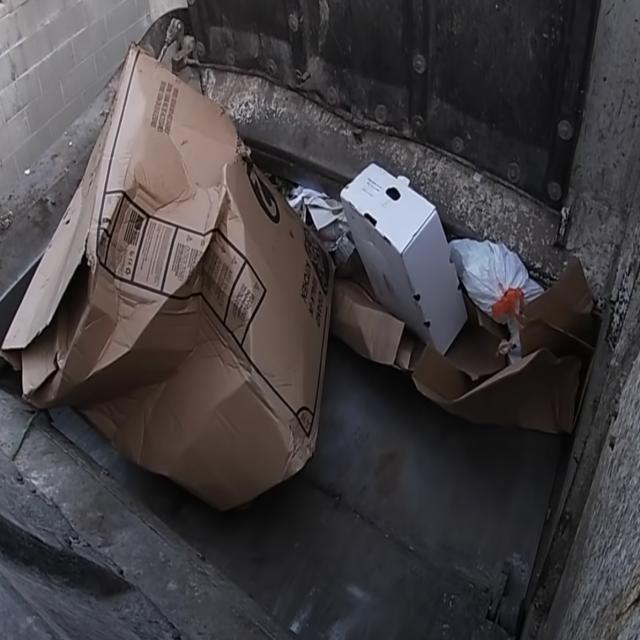cardboard: (9, 33, 328, 514), (318, 164, 592, 418)
